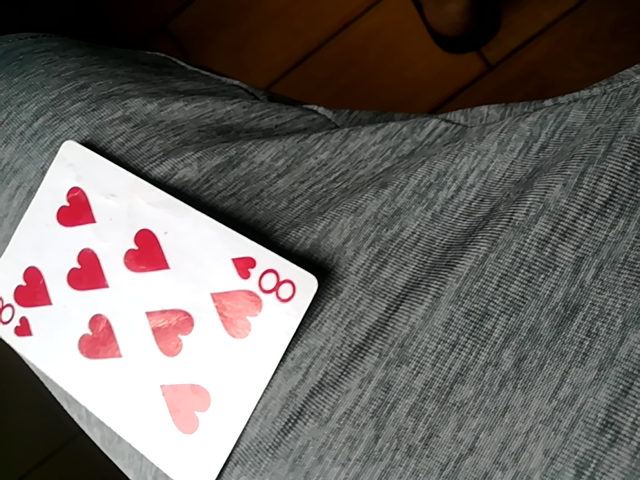hx 8: (0, 134, 326, 480)
